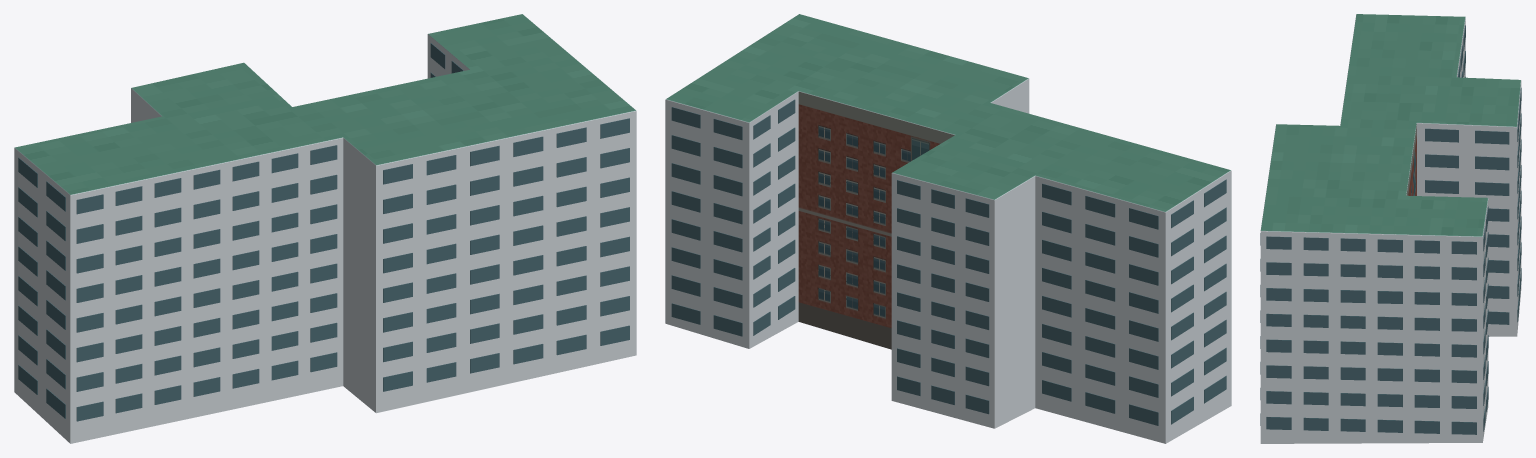
The model's file is fragments.glb.
The picture shows the model from 3 angles, left to right: view 1: azimuth 30°, elevation 25°; view 2: azimuth 150°, elevation 25°; view 3: azimuth 270°, elevation 25°; orthographic projection. The views are drawn at different scales.
Parts seen in each view (by area): view 1: SM_faculty_Fragment_007, SM_faculty_Fragment_005, SM_faculty_Fragment_037, SM_faculty_Fragment_004, SM_faculty_Fragment_017, SM_faculty_Fragment_040, SM_faculty_Fragment_016, SM_faculty_Fragment_031, SM_faculty_Fragment_060, SM_faculty_Fragment_053, SM_faculty_Fragment_027, SM_faculty_Fragment_038 (+29 smaller); view 2: SM_faculty_Fragment_042, SM_faculty_Fragment_014, SM_faculty_Fragment_029, SM_faculty_Fragment_024, SM_faculty_Fragment_028, SM_faculty_Fragment_012, SM_faculty_Fragment_001, SM_faculty_Fragment_054, SM_faculty_Fragment_022, SM_faculty_Fragment_044, SM_faculty_Fragment_050, SM_faculty_Fragment_002 (+26 smaller); view 3: SM_faculty_Fragment_015, SM_faculty_Fragment_041, SM_faculty_Fragment_020, SM_faculty_Fragment_013, SM_faculty_Fragment_056, SM_faculty_Fragment_061, SM_faculty_Fragment_003, SM_faculty_Fragment_002, SM_faculty_Fragment_036, SM_faculty_Fragment_062, SM_faculty_Fragment_051, SM_faculty_Fragment_027 (+21 smaller).
Part boxes in pixels (x1=…): SM_faculty_Fragment_007: x1=113, y1=147, x2=243, y2=286; SM_faculty_Fragment_005: x1=169, y1=284, x2=281, y2=417; SM_faculty_Fragment_037: x1=27, y1=157, x2=142, y2=277; SM_faculty_Fragment_004: x1=310, y1=114, x2=456, y2=217; SM_faculty_Fragment_017: x1=46, y1=334, x2=181, y2=443; SM_faculty_Fragment_040: x1=439, y1=211, x2=560, y2=327; SM_faculty_Fragment_016: x1=35, y1=253, x2=142, y2=373; SM_faculty_Fragment_031: x1=442, y1=117, x2=571, y2=211; SM_faculty_Fragment_060: x1=343, y1=291, x2=456, y2=391; SM_faculty_Fragment_053: x1=262, y1=226, x2=359, y2=343; SM_faculty_Fragment_027: x1=230, y1=95, x2=343, y2=203; SM_faculty_Fragment_038: x1=391, y1=171, x2=508, y2=293; SM_faculty_Fragment_042: x1=703, y1=183, x2=833, y2=328; SM_faculty_Fragment_014: x1=768, y1=89, x2=882, y2=222; SM_faculty_Fragment_029: x1=1034, y1=172, x2=1139, y2=301; SM_faculty_Fragment_024: x1=671, y1=87, x2=797, y2=200; SM_faculty_Fragment_028: x1=931, y1=262, x2=1055, y2=382; SM_faculty_Fragment_012: x1=946, y1=177, x2=1049, y2=309; SM_faculty_Fragment_001: x1=1098, y1=173, x2=1204, y2=277; SM_faculty_Fragment_054: x1=891, y1=159, x2=1005, y2=248; SM_faculty_Fragment_022: x1=1042, y1=290, x2=1120, y2=396; SM_faculty_Fragment_044: x1=1088, y1=256, x2=1193, y2=344; SM_faculty_Fragment_050: x1=1114, y1=329, x2=1207, y2=417; SM_faculty_Fragment_002: x1=891, y1=204, x2=957, y2=329; SM_faculty_Fragment_015: x1=1332, y1=206, x2=1476, y2=289; SM_faculty_Fragment_041: x1=1260, y1=204, x2=1335, y2=301; SM_faculty_Fragment_020: x1=1322, y1=311, x2=1439, y2=397; SM_faculty_Fragment_013: x1=1260, y1=366, x2=1342, y2=443; SM_faculty_Fragment_056: x1=1292, y1=265, x2=1368, y2=366; SM_faculty_Fragment_061: x1=1366, y1=274, x2=1445, y2=356; SM_faculty_Fragment_003: x1=1443, y1=232, x2=1488, y2=348; SM_faculty_Fragment_002: x1=1475, y1=155, x2=1520, y2=267; SM_faculty_Fragment_036: x1=1425, y1=329, x2=1486, y2=441; SM_faculty_Fragment_062: x1=1345, y1=54, x2=1463, y2=99; SM_faculty_Fragment_051: x1=1332, y1=393, x2=1413, y2=443; SM_faculty_Fragment_027: x1=1341, y1=90, x2=1442, y2=144.
Bounding box in the file's own units: 2.2 × 0.9969 × 1.09.
6 materials, 2 textured.
